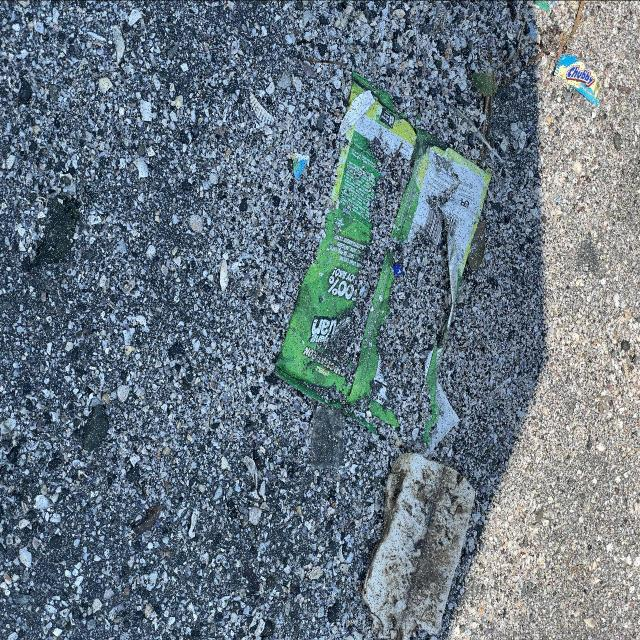plastic_waste: (273, 70, 496, 446), (554, 54, 605, 108)
